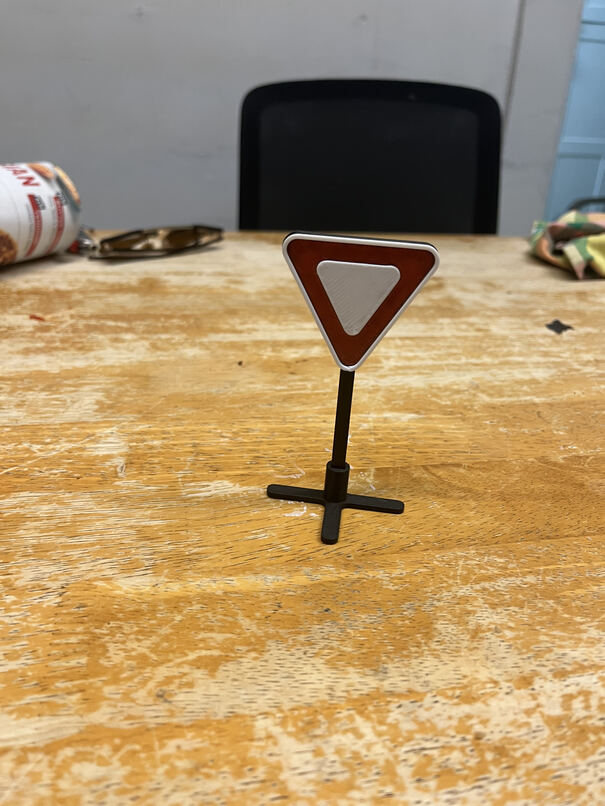sign_yield: (280, 227, 448, 376)
